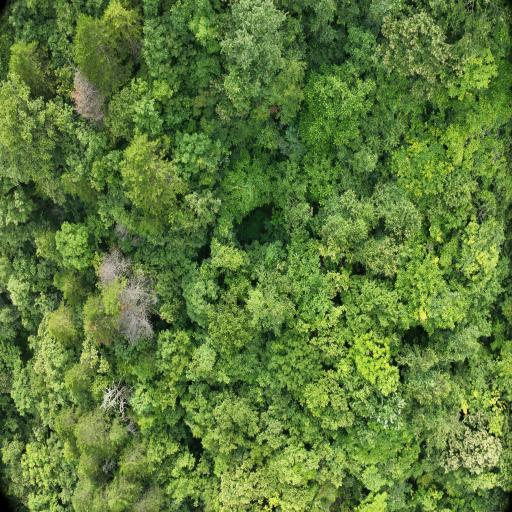dead-tree: (75, 79, 102, 124), (129, 304, 147, 345), (105, 390, 121, 406), (102, 261, 124, 272)
